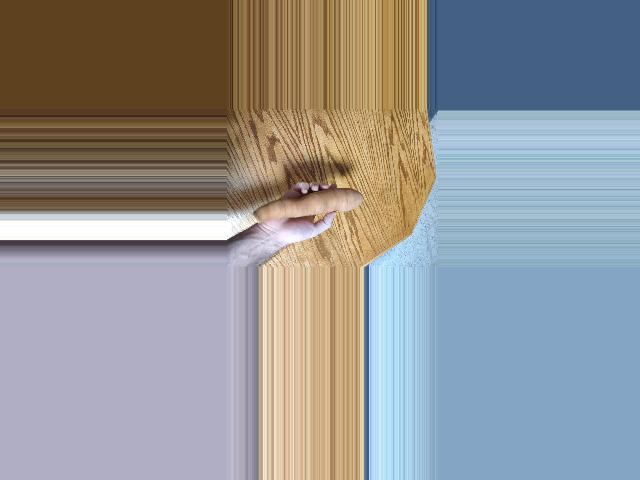sweet_potato: (258, 180, 363, 223)
